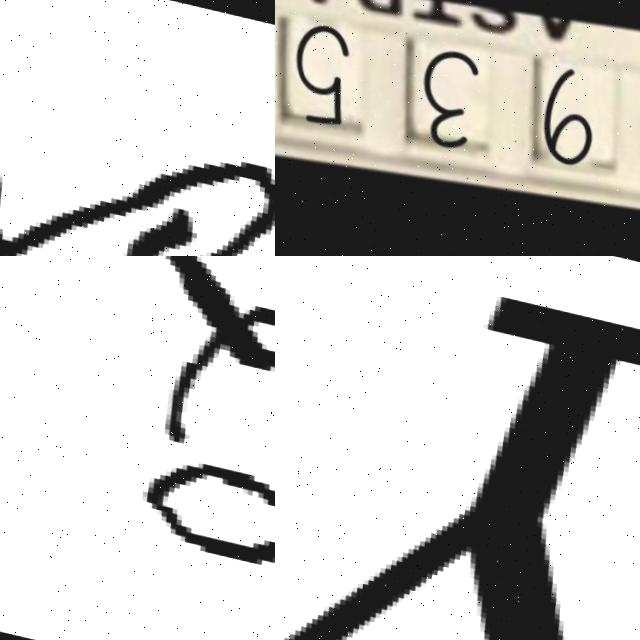3: (393, 26, 506, 162)
5: (275, 0, 379, 141)
9: (511, 42, 624, 178)
Q: (0, 256, 275, 632)
X: (0, 38, 275, 256)
Y: (275, 256, 640, 640)
